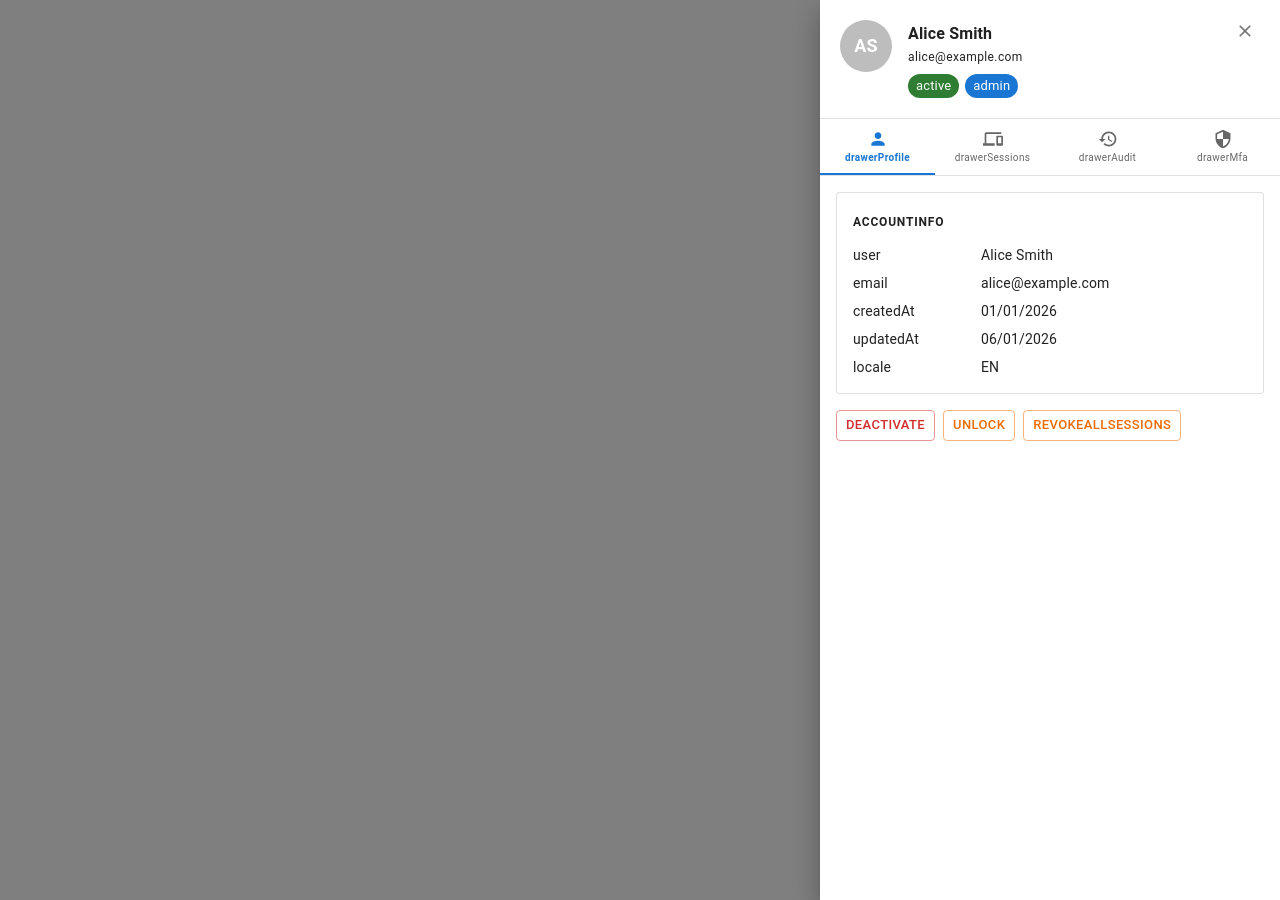
Test: UserProfileDrawer component › shows LinearProgress while audit is loading
Click the text "drawerAudit": [1108, 158] box [1079,153,1136,163]
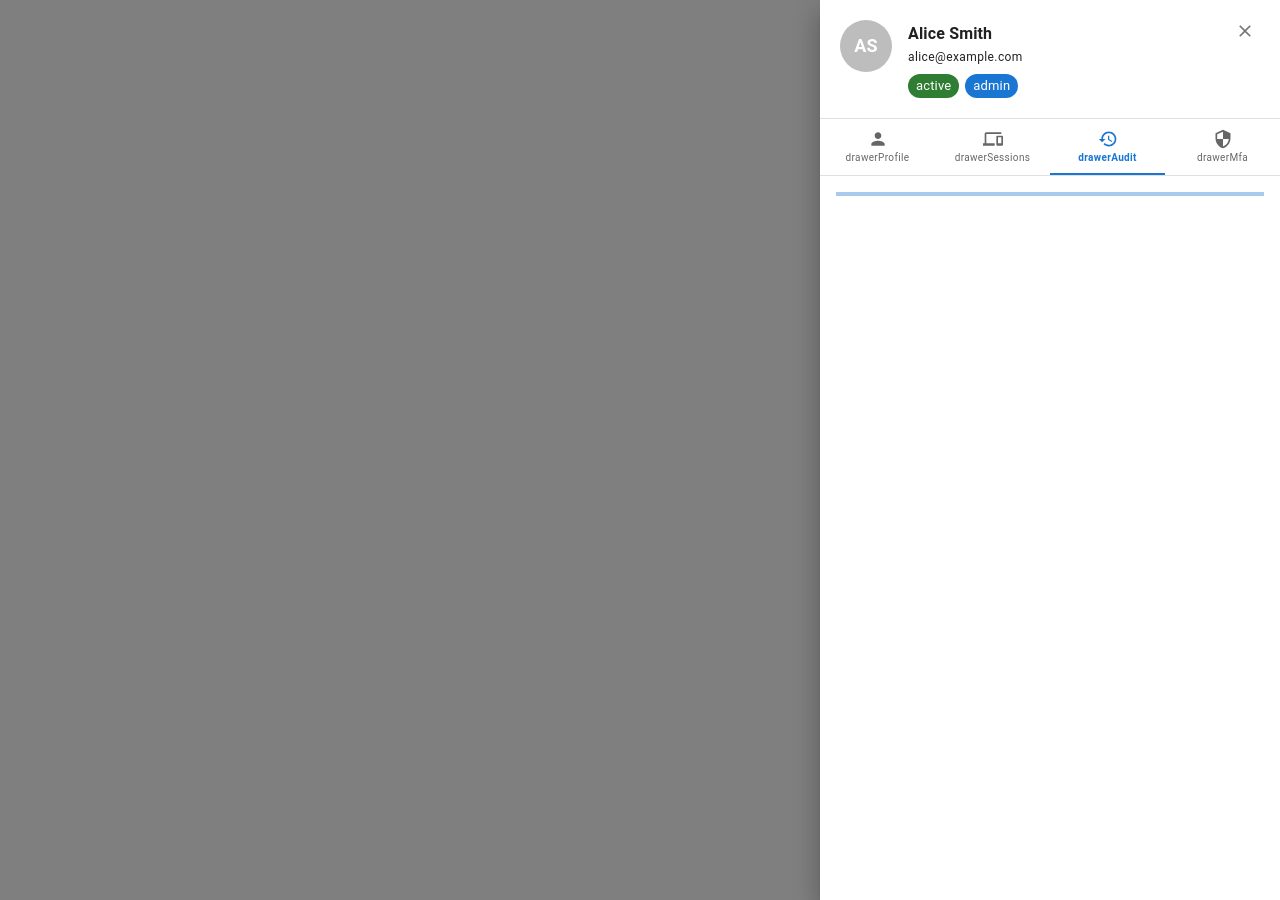
Expected: the progress indicator is shown, [836,192,1264,196]
